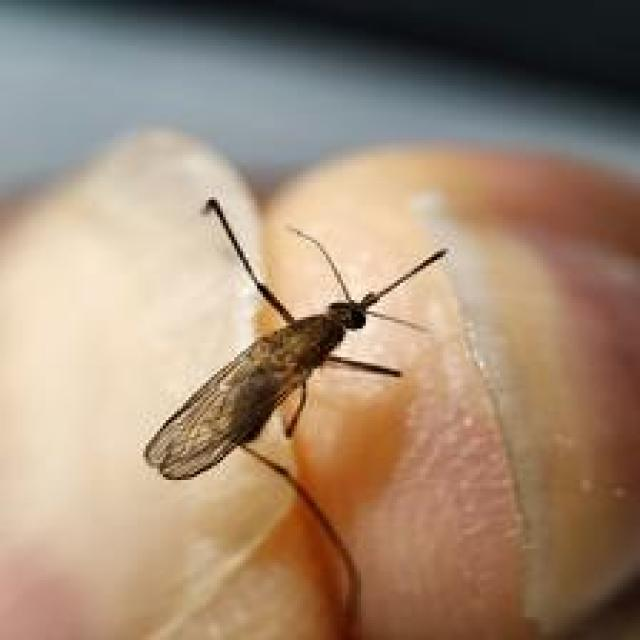Culex: (141, 196, 450, 624)
